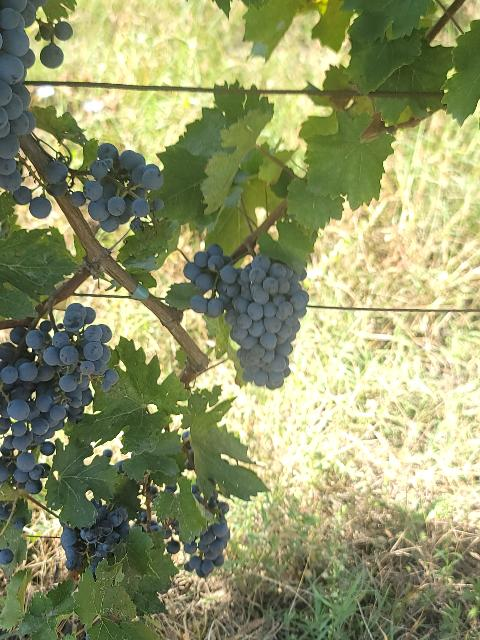grapes: (184, 244, 309, 389), (0, 328, 68, 494), (82, 144, 164, 232), (44, 302, 119, 391)
